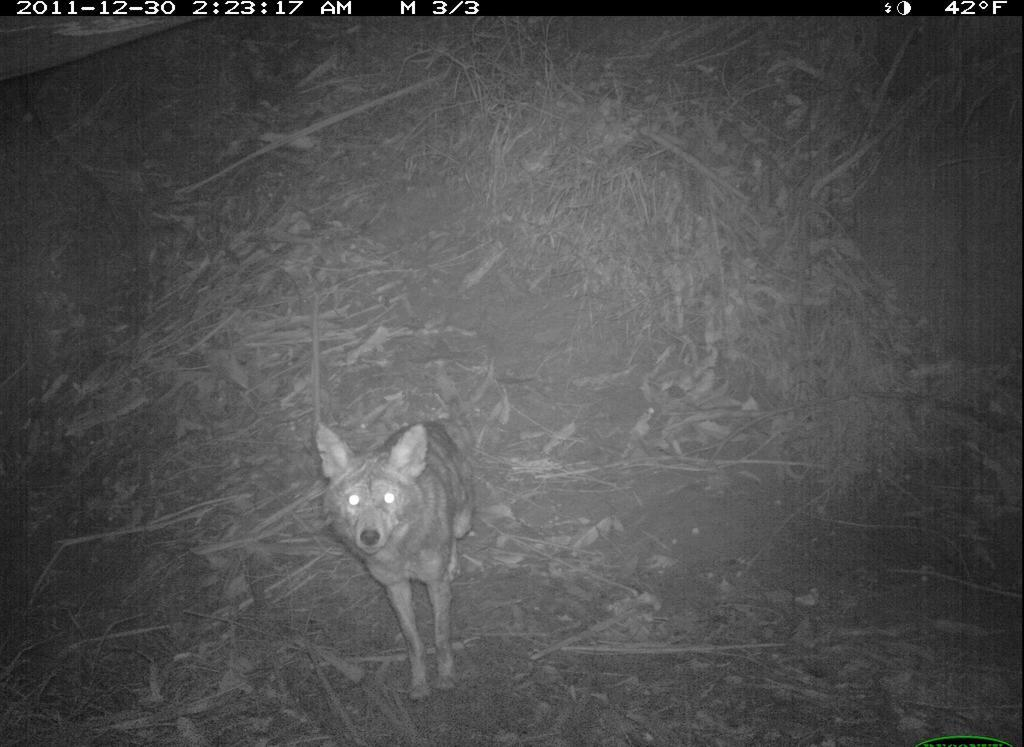coyote: (310, 411, 483, 713)
